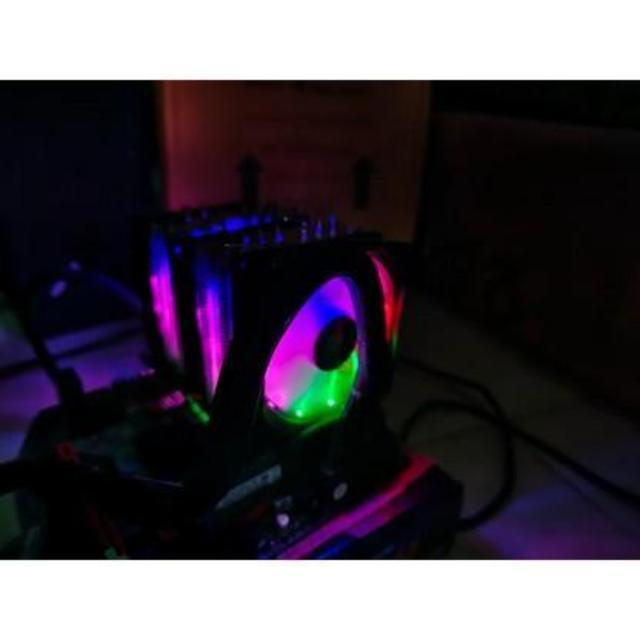CPU_Fan: (148, 195, 404, 442)
